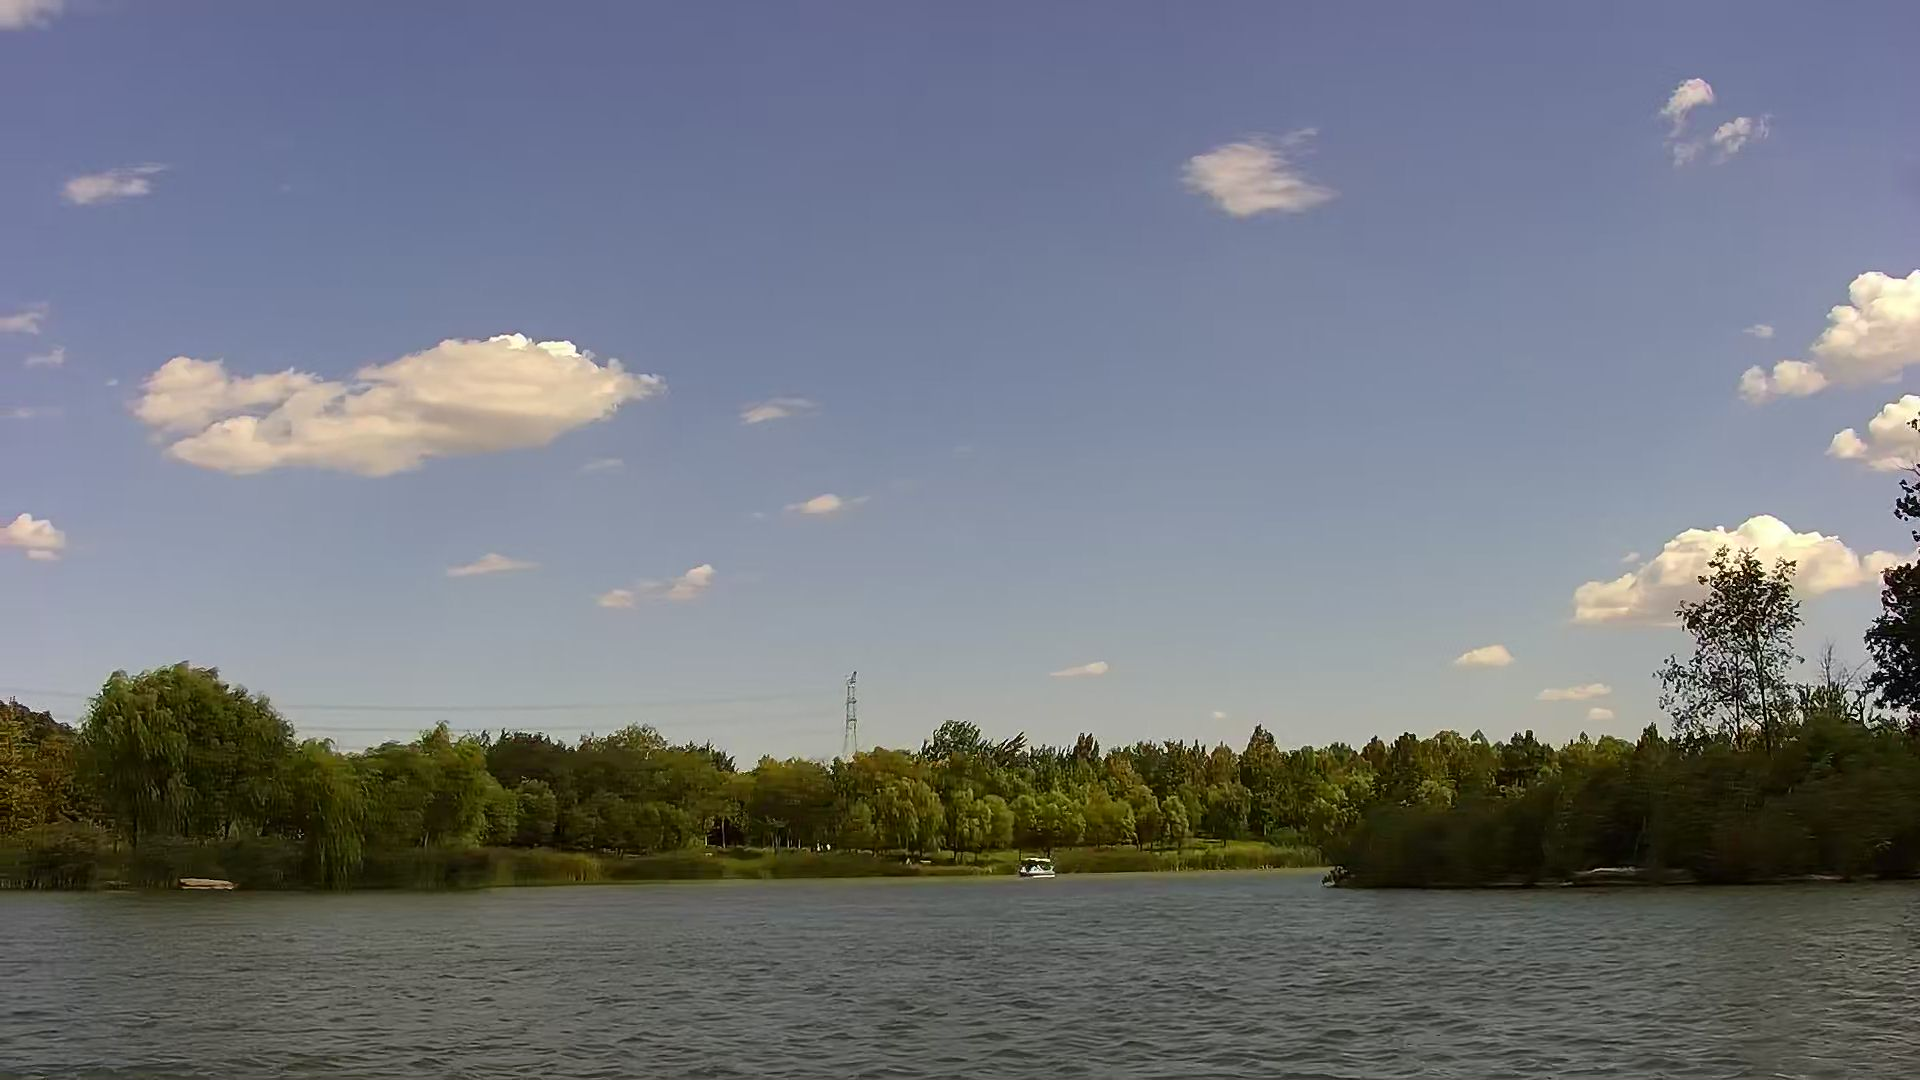boat: (1017, 853, 1054, 876)
rock: (1571, 862, 1662, 884), (178, 873, 235, 889), (1811, 874, 1851, 887)
